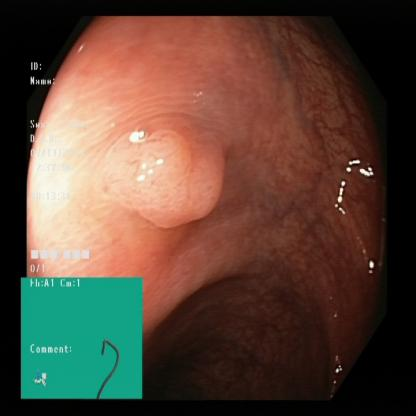Labels: (26, 54, 98, 283), (22, 280, 145, 398)
Polyps: (93, 109, 236, 222)
